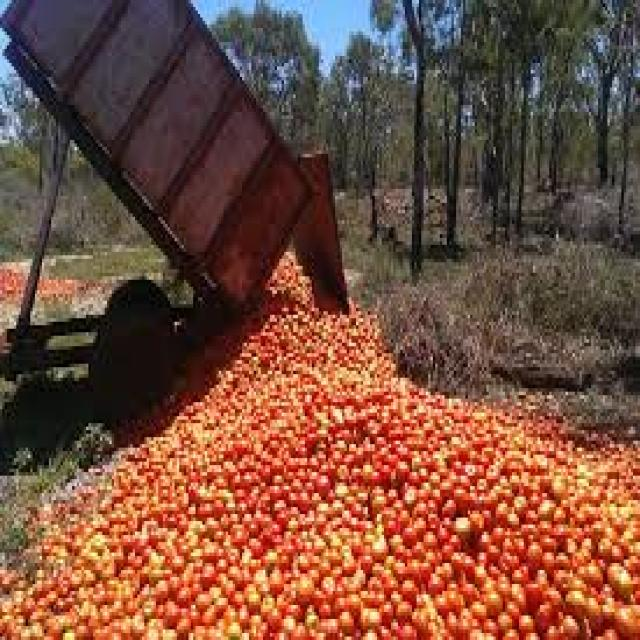biodegradable: (403, 388, 638, 637), (189, 504, 505, 637), (0, 521, 328, 637), (252, 395, 387, 584), (35, 462, 214, 584), (184, 420, 268, 577), (110, 413, 182, 574), (377, 371, 421, 602), (170, 346, 242, 476), (300, 343, 396, 423), (256, 287, 323, 381), (202, 315, 270, 395), (345, 290, 380, 371), (268, 248, 314, 308), (303, 280, 340, 322), (30, 276, 100, 294), (0, 262, 23, 300)
